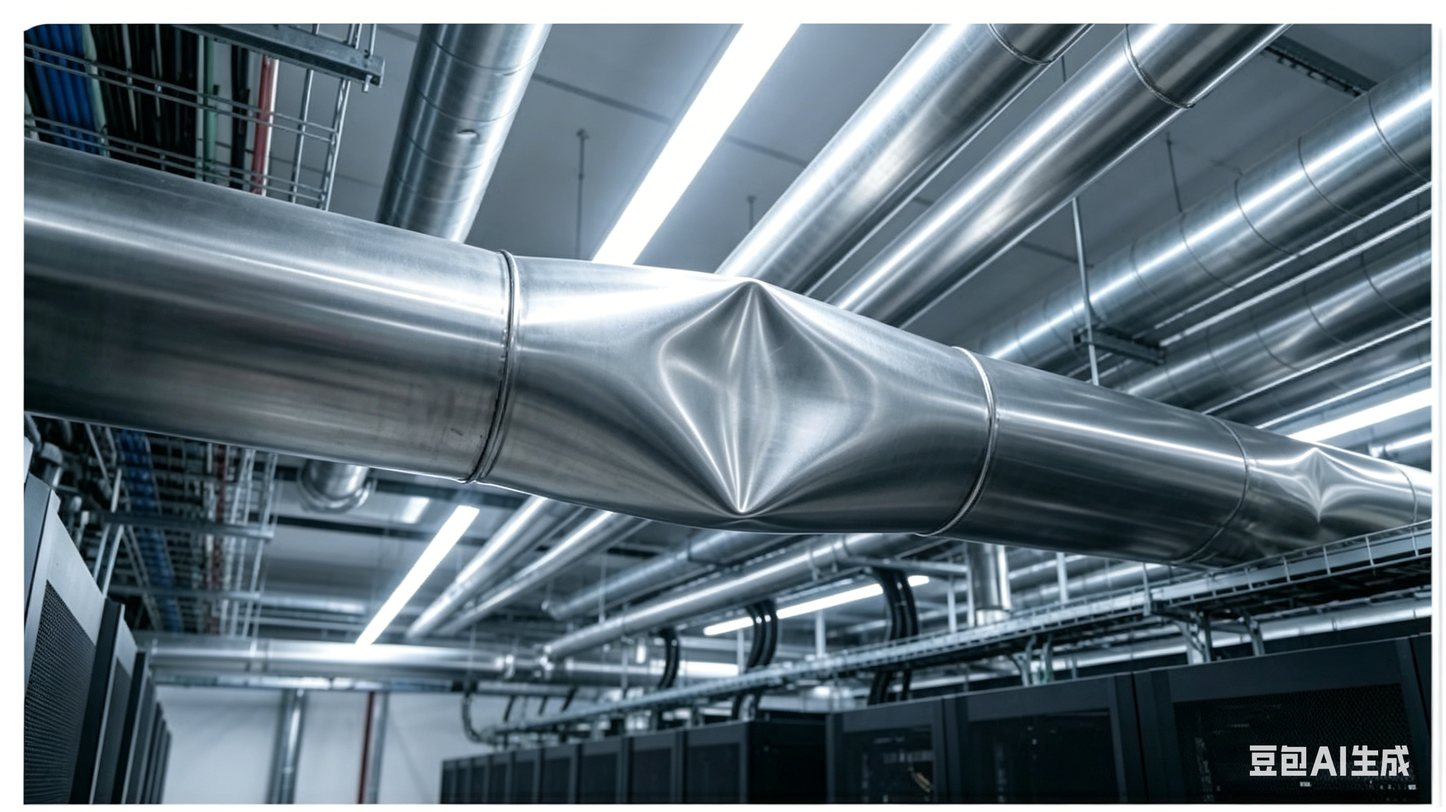Leakage: (567, 255, 892, 512), (1235, 430, 1391, 534)
